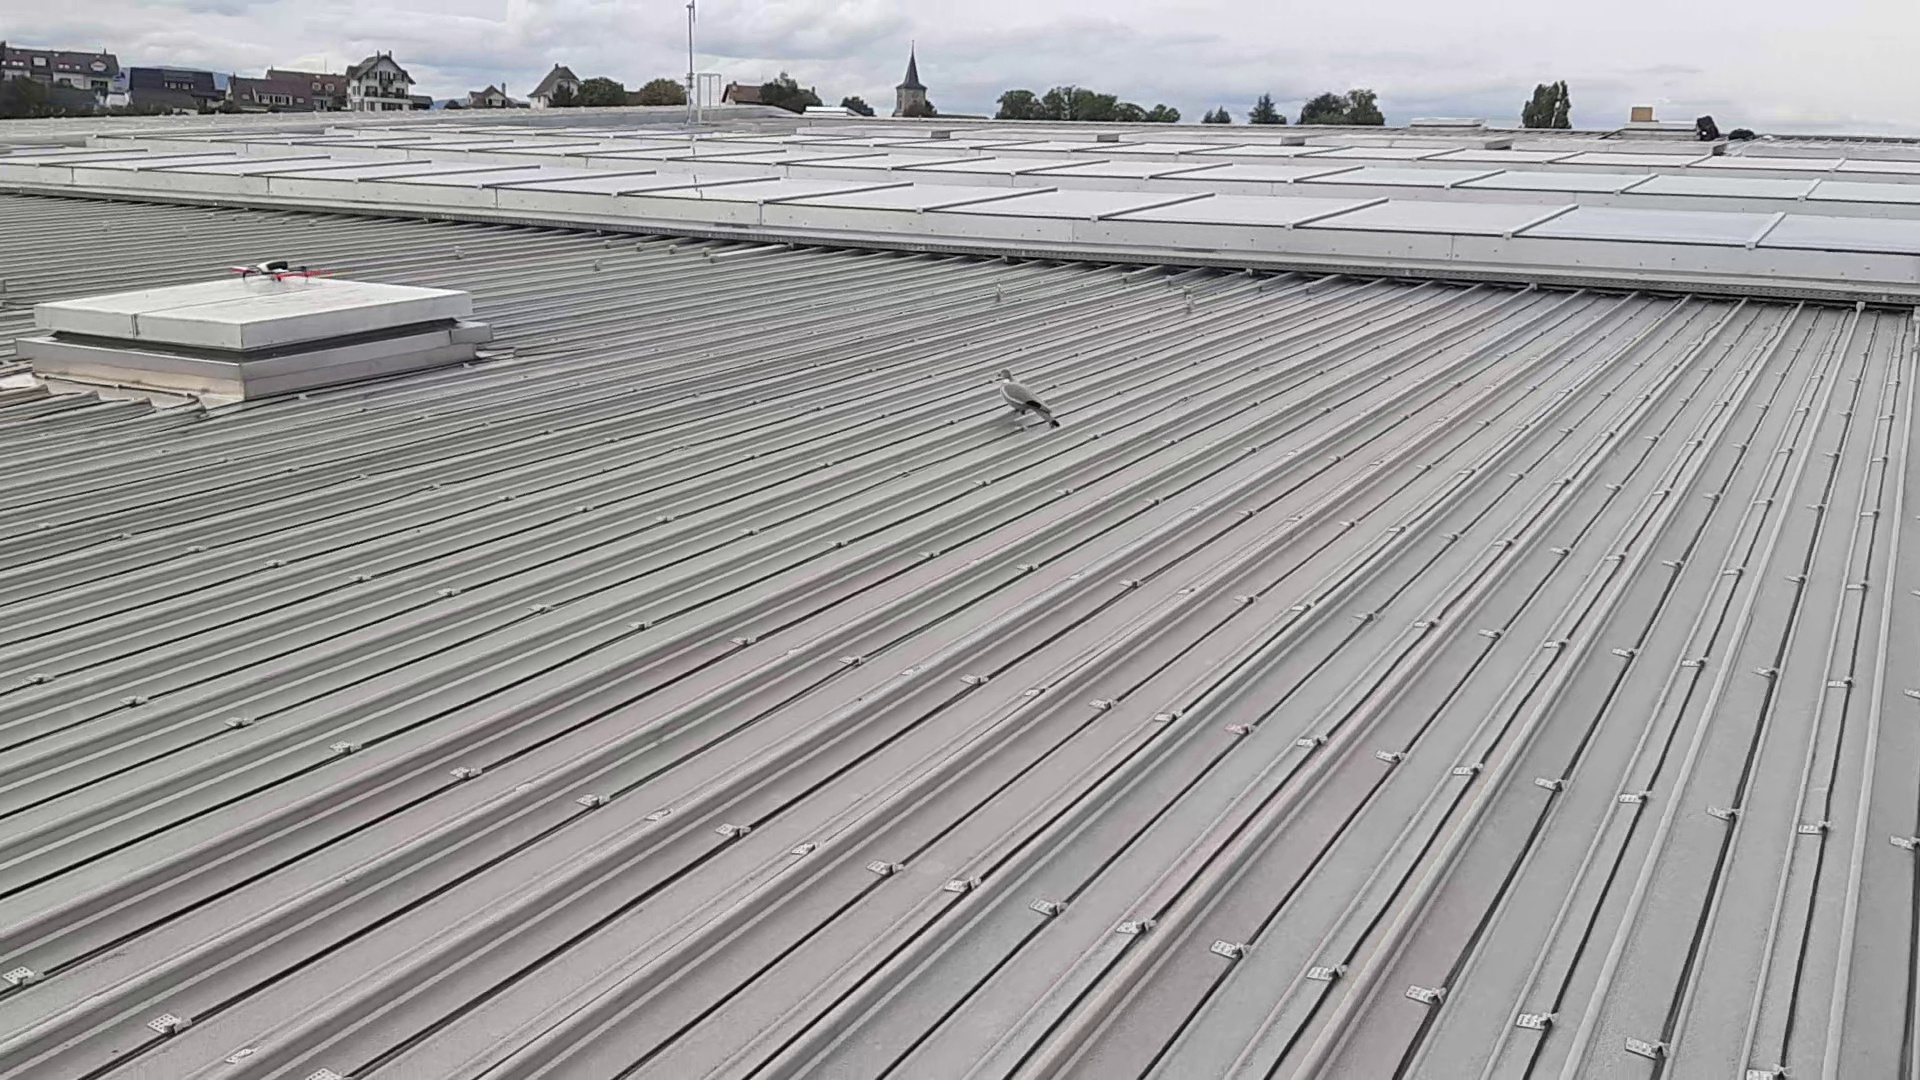Pigeon: (986, 367, 1073, 431)
